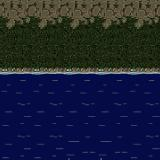Interaction: (0, 56, 160, 84)
Slow: (0, 75, 160, 160)
